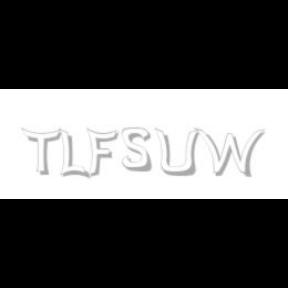F: (86, 128, 118, 178)
L: (59, 128, 87, 180)
S: (122, 128, 152, 172)
T: (21, 128, 61, 176)
U: (154, 128, 198, 178)
W: (193, 128, 265, 178)
